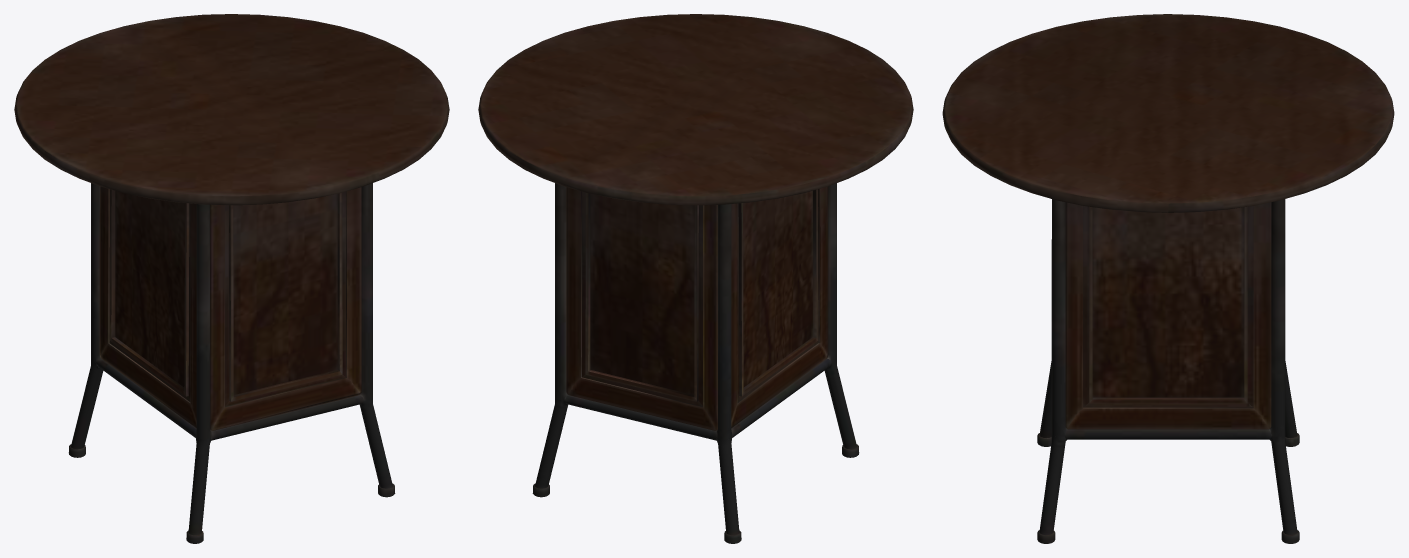
File: cafe_table_round.glb
The picture shows the model from 3 angles, left to right: view 1: azimuth 30°, elevation 25°; view 2: azimuth 150°, elevation 25°; view 3: azimuth 270°, elevation 25°; orthographic projection. The views are drawn at different scales.
Parts seen in each view (by area): view 1: round_wooden_table_02; view 2: round_wooden_table_02; view 3: round_wooden_table_02.
Part boxes in pixels (bbox=[...]): round_wooden_table_02: bbox=[14, 14, 449, 543]; round_wooden_table_02: bbox=[478, 14, 913, 543]; round_wooden_table_02: bbox=[942, 14, 1394, 543].
Bounding box in the file's own units: 0.7962 × 0.746 × 0.7962.
Materials: 1 (1 with a texture image).
